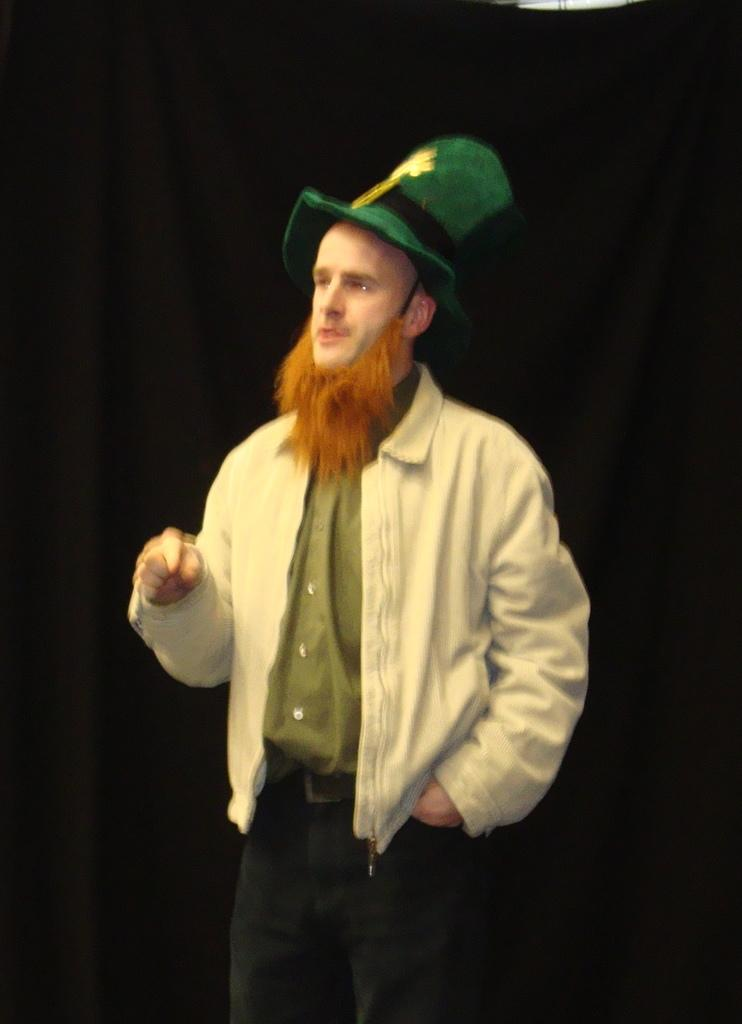Hat: (284, 133, 517, 329)
